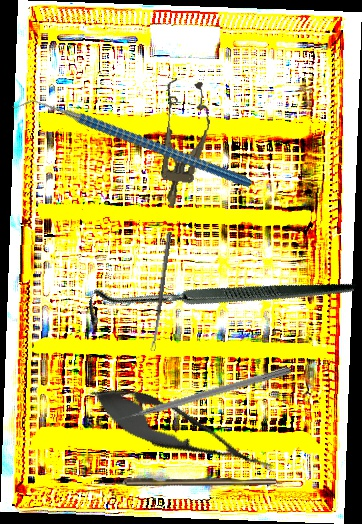Chopper: (12, 32, 253, 257)
Hook Surgical: (80, 184, 357, 421), (99, 478, 276, 486)
Micro Scissor: (80, 371, 285, 492)
Pusher: (108, 364, 292, 426)
Speculum: (147, 76, 216, 212)
Surgical Spoon: (150, 231, 172, 352)
